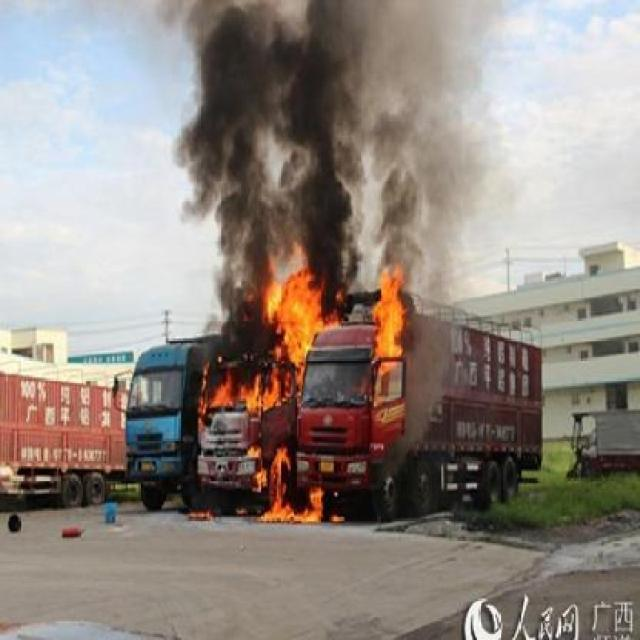Fire: (202, 328, 315, 409), (242, 442, 346, 524), (260, 258, 350, 328), (376, 268, 408, 362), (186, 507, 212, 520)
Smoke: (166, 0, 497, 259), (214, 262, 262, 326)
